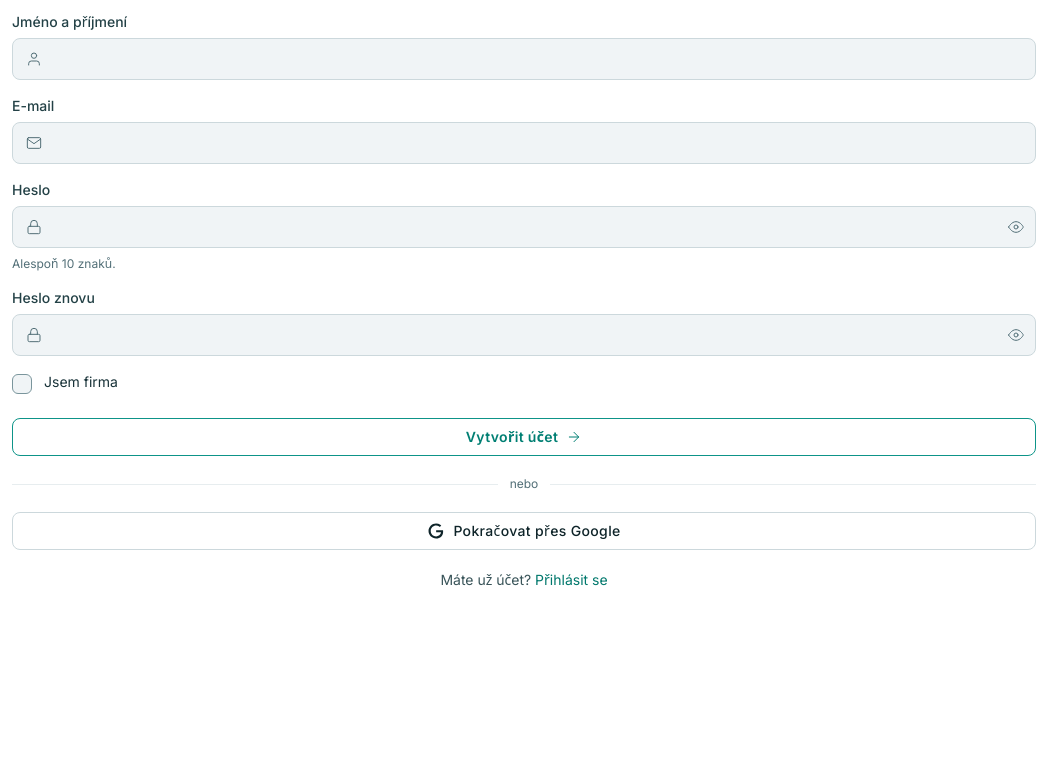
Scenario: RegisterForm — Jsem firma (T-0162) › renders the dissolved alert when the preview reports an inactive company (QA fold F-3)
The width and height of the screenshot is (1048, 780).
Click the checkbox labelled "Jsem firma": (65, 384) [12, 373, 118, 394]
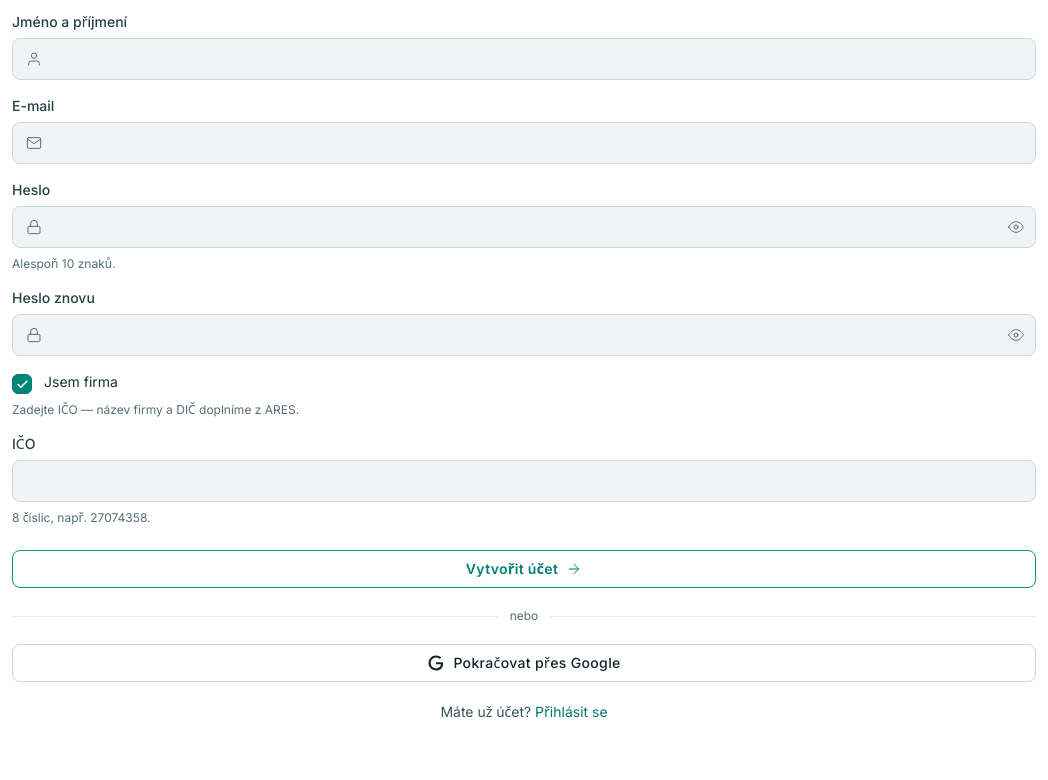
In the field labelled "IČO": (524, 481) [12, 460, 1036, 502], type "27074358"
Wait 400 ms
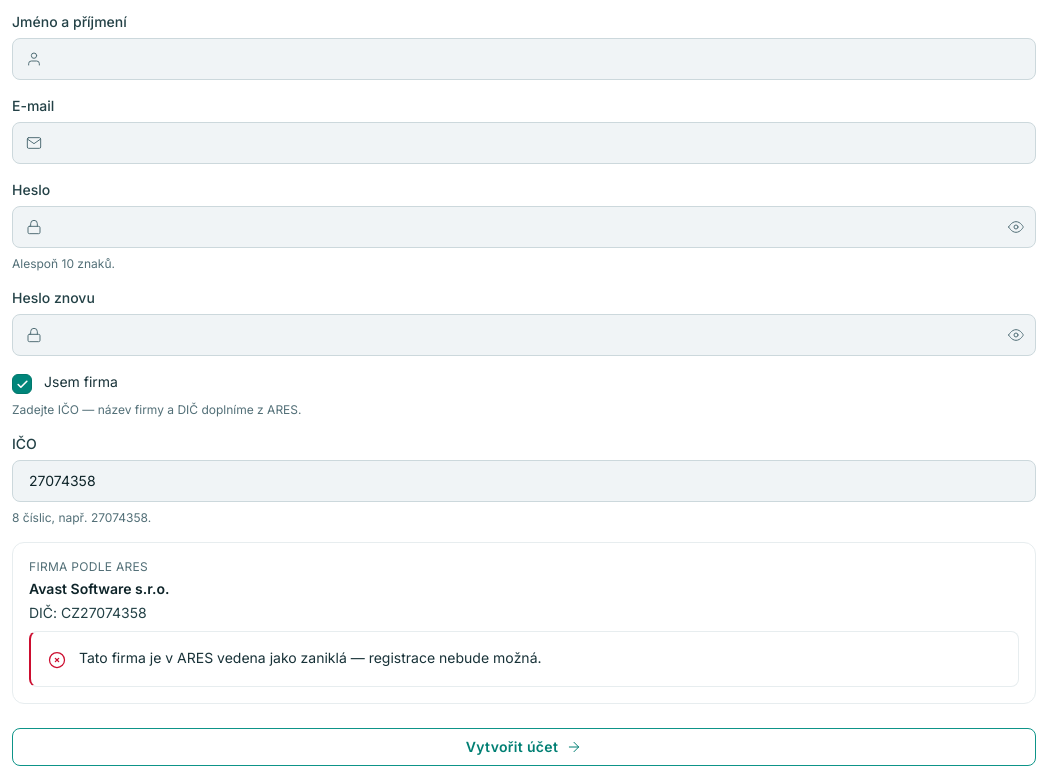
Check: the text "Tato firma je v ARES vedena jako zaniklá — registrace nebude možná." is shown, box [79, 648, 542, 668]
